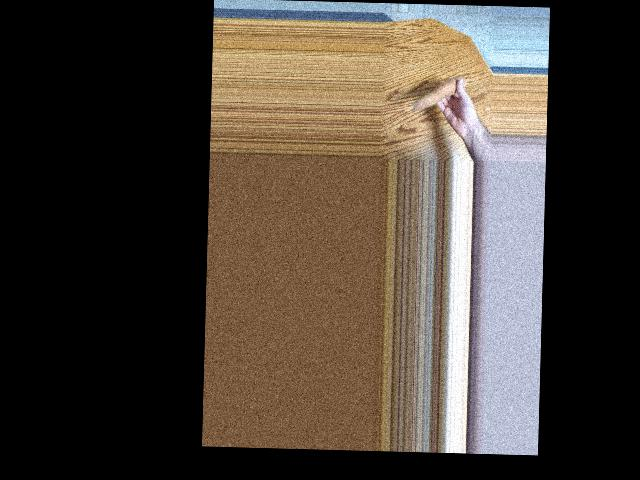sweet_potato: (413, 74, 468, 112)
